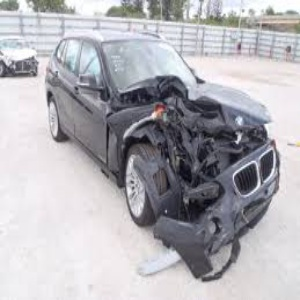bonnet: (149, 76, 262, 139)
bumper: (184, 170, 250, 271)
